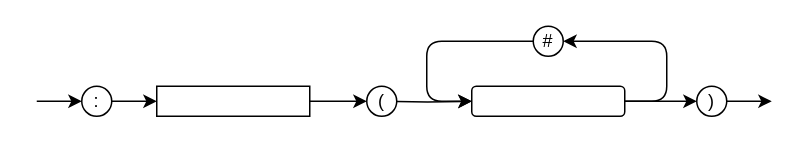
Image size: 810x143. Some labels were removed from this diagram. Each missing label, with the centre of its shape:
"expression" belongs at (547,100).
"get" belongs at (232,100).
